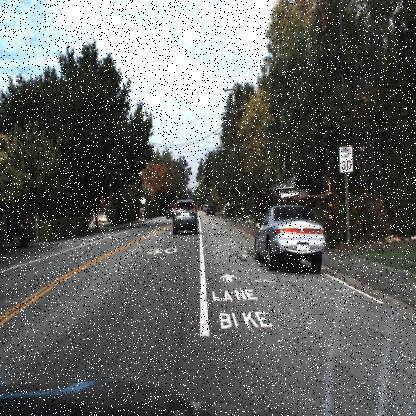car: (251, 199, 325, 274), (0, 205, 37, 251), (168, 197, 198, 239), (250, 186, 284, 212), (204, 203, 218, 221)
